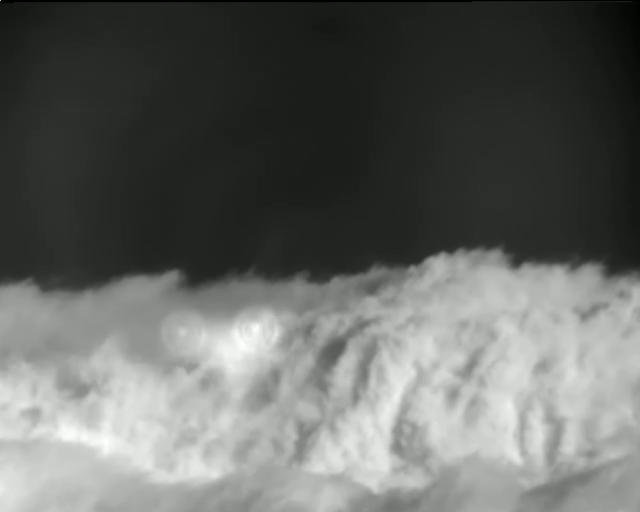uav: (155, 300, 283, 379)
